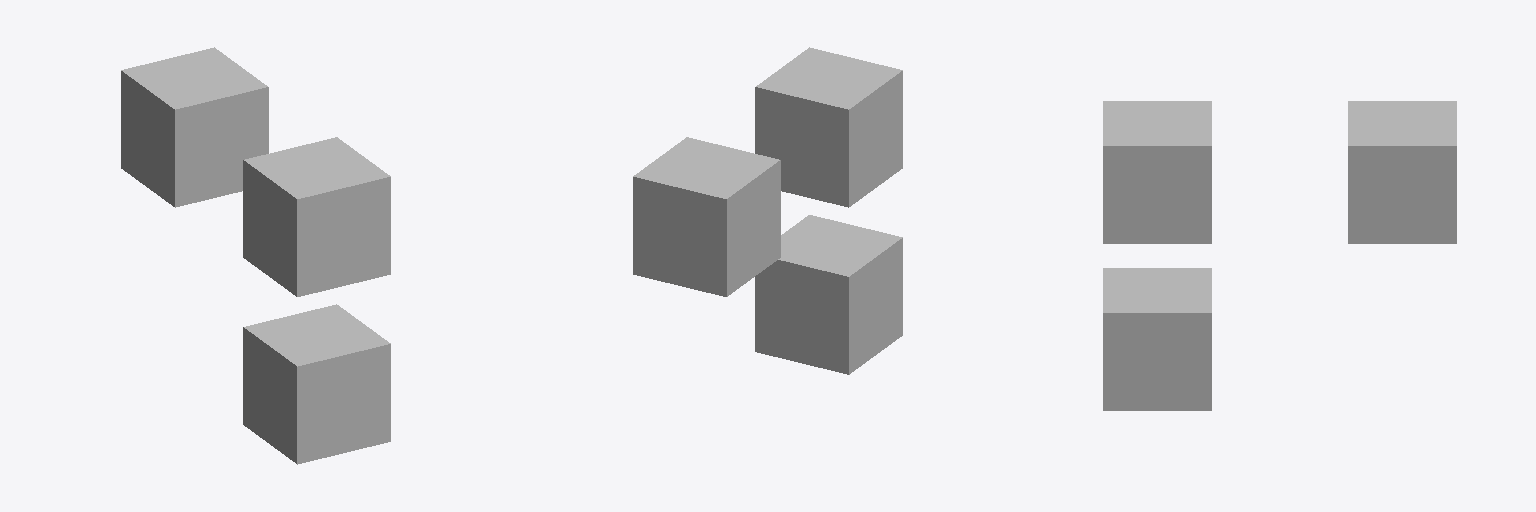
File: multinode.obj
The picture shows the model from 3 angles: view 1: azimuth 30°, elevation 25°; view 2: azimuth 150°, elevation 25°; view 3: azimuth 270°, elevation 25°; orthographic projection.
Parts seen in each view (by area): view 1: Cube_Cube.002.000, Cube_Cube.000, Cube.001_Cube.003; view 2: Cube.001_Cube.003, Cube_Cube.000, Cube_Cube.002.000; view 3: Cube_Cube.000, Cube.001_Cube.003, Cube_Cube.002.000.
Boxes of the visible parts, box(x1,y1,x2,y2) form: Cube_Cube.002.000: box(243, 137, 390, 296); Cube_Cube.000: box(243, 304, 390, 464); Cube.001_Cube.003: box(121, 47, 268, 207); Cube.001_Cube.003: box(633, 137, 780, 296); Cube_Cube.000: box(755, 215, 902, 374); Cube_Cube.002.000: box(755, 47, 902, 207); Cube_Cube.000: box(1103, 268, 1211, 410); Cube.001_Cube.003: box(1348, 101, 1456, 243); Cube_Cube.002.000: box(1103, 101, 1211, 243).
Size of the model in its own units: 2 by 5.41 by 6.53.